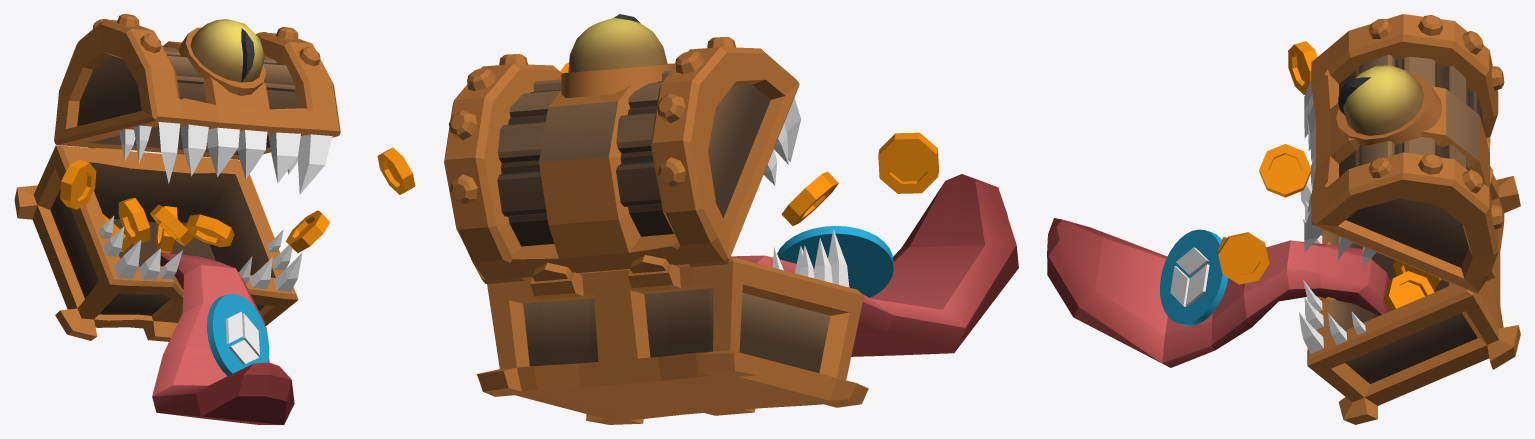
Rendered from 3december_2020_day_18_monster.glb.
3 renders of one model, left to right at view 1: azimuth 30°, elevation 25°; view 2: azimuth 150°, elevation 25°; view 3: azimuth 270°, elevation 25°, orthographic. The views are drawn at different scales.
Parts seen in each view (by area): view 1: Cylinder_2, Cylinder.001_3, Plane_4, Cylinder.005_8, Cylinder.004_7, Cylinder.009_12, Cylinder.007_10, Cylinder.003_6, Cylinder.002_5, Cylinder.008_11; view 2: Cylinder.001_3, Cylinder_2, Plane_4, Cylinder.005_8, Cylinder.002_5; view 3: Cylinder.001_3, Cylinder_2, Plane_4, Cylinder.002_5, Cylinder.004_7, Cylinder.009_12, Cylinder.005_8.
Boxes of the visible parts, left/top/right/bottom form: Cylinder_2: left=14, top=145, right=302, bottom=424; Cylinder.001_3: left=54, top=14, right=340, bottom=194; Plane_4: left=207, top=294, right=269, bottom=375; Cylinder.005_8: left=60, top=159, right=96, bottom=209; Cylinder.004_7: left=377, top=147, right=415, bottom=194; Cylinder.009_12: left=185, top=214, right=234, bottom=247; Cylinder.007_10: left=118, top=198, right=150, bottom=244; Cylinder.003_6: left=285, top=210, right=329, bottom=252; Cylinder.002_5: left=150, top=204, right=193, bottom=245; Cylinder.008_11: left=156, top=206, right=177, bottom=253; Cylinder.001_3: left=444, top=14, right=801, bottom=299; Cylinder_2: left=477, top=174, right=1018, bottom=424; Plane_4: left=777, top=226, right=893, bottom=297; Cylinder.005_8: left=878, top=132, right=938, bottom=193; Cylinder.002_5: left=781, top=171, right=838, bottom=225; Cylinder.001_3: left=1304, top=14, right=1504, bottom=293; Cylinder_2: left=1047, top=173, right=1520, bottom=424; Plane_4: left=1160, top=229, right=1228, bottom=325; Cylinder.002_5: left=1259, top=144, right=1310, bottom=197; Cylinder.004_7: left=1218, top=232, right=1269, bottom=284; Cylinder.009_12: left=1383, top=271, right=1434, bottom=311; Cylinder.005_8: left=1288, top=41, right=1317, bottom=94.
Size of the model in its own units: 4.25 by 4.22 by 5.07.
8 materials, 3 textured.
